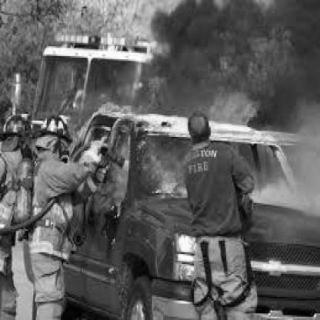Fire: (92, 121, 190, 197)
